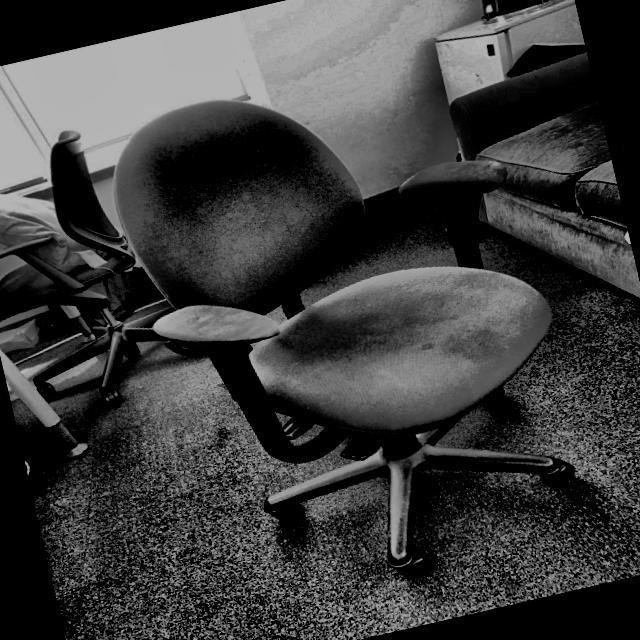chair: (93, 34, 608, 625)
